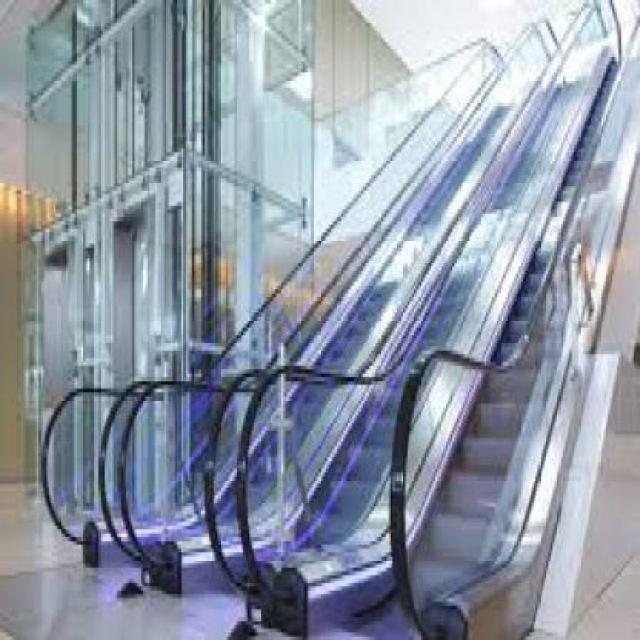stair: (388, 0, 624, 625)
